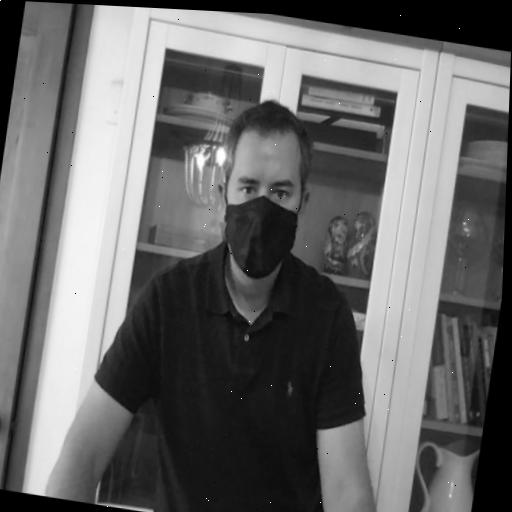mask: (208, 94, 322, 285)
